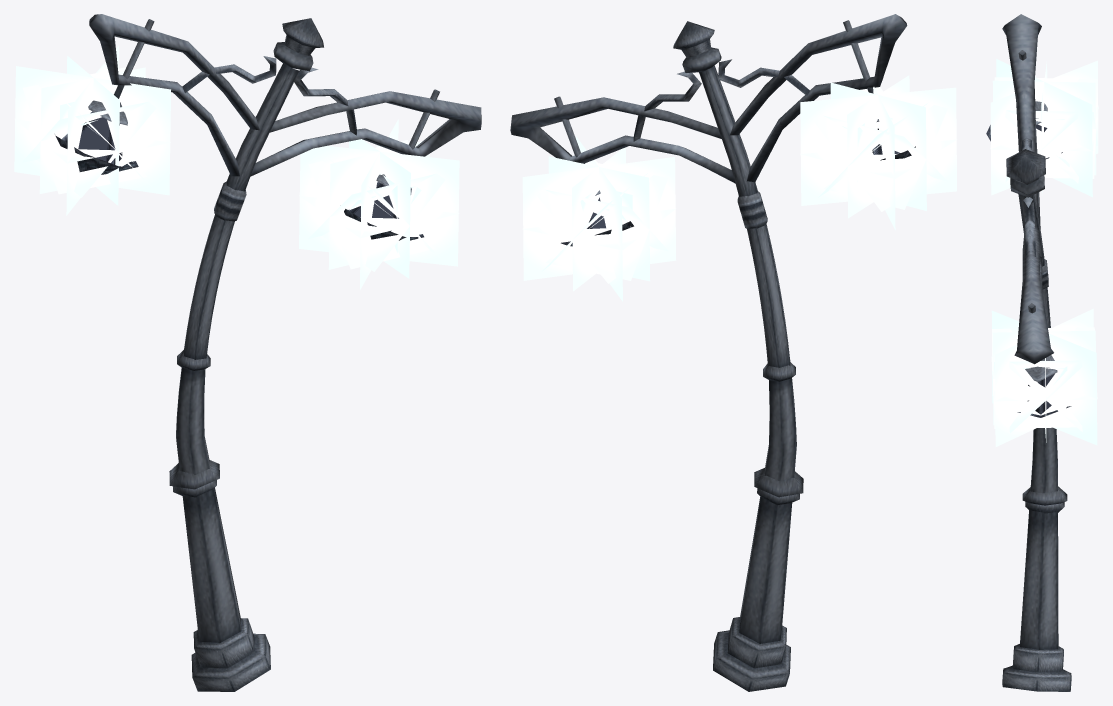
The model's file is a_ESDlamp.glb.
3 views of the same model, side by side, from view 1: azimuth 30°, elevation 25°; view 2: azimuth 150°, elevation 25°; view 3: azimuth 270°, elevation 25° (orthographic). The views are drawn at different scales.
Parts seen in each view (by area): view 1: a_ESDlamp; view 2: a_ESDlamp; view 3: a_ESDlamp.
Part boxes in pixels (left/top/right/bottom): a_ESDlamp: left=14, top=14, right=481, bottom=691; a_ESDlamp: left=510, top=14, right=956, bottom=691; a_ESDlamp: left=986, top=14, right=1098, bottom=691.
Size of the model in its own units: 2.24 by 3.48 by 0.5683.
Materials: 4 (4 with a texture image).
